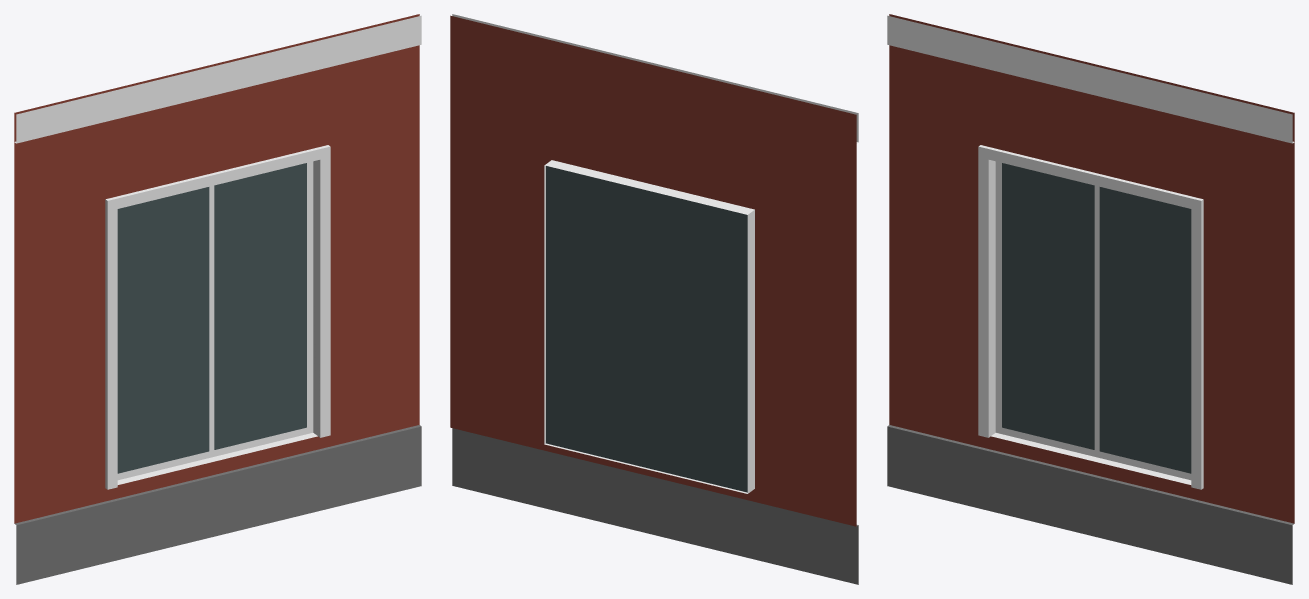
The picture shows the model from 3 angles, left to right: view 1: azimuth 30°, elevation 25°; view 2: azimuth 150°, elevation 25°; view 3: azimuth 330°, elevation 25°; orthographic projection.
Visible parts, largest first — view 1: a2000/200/base-w3; view 2: a2000/200/base-w3; view 3: a2000/200/base-w3.
Part boxes in pixels (bbox=[...]): a2000/200/base-w3: bbox=[14, 14, 421, 584]; a2000/200/base-w3: bbox=[450, 14, 858, 584]; a2000/200/base-w3: bbox=[887, 14, 1294, 584].
Size of the model in its own units: 3.2 by 3.55 by 0.13.
